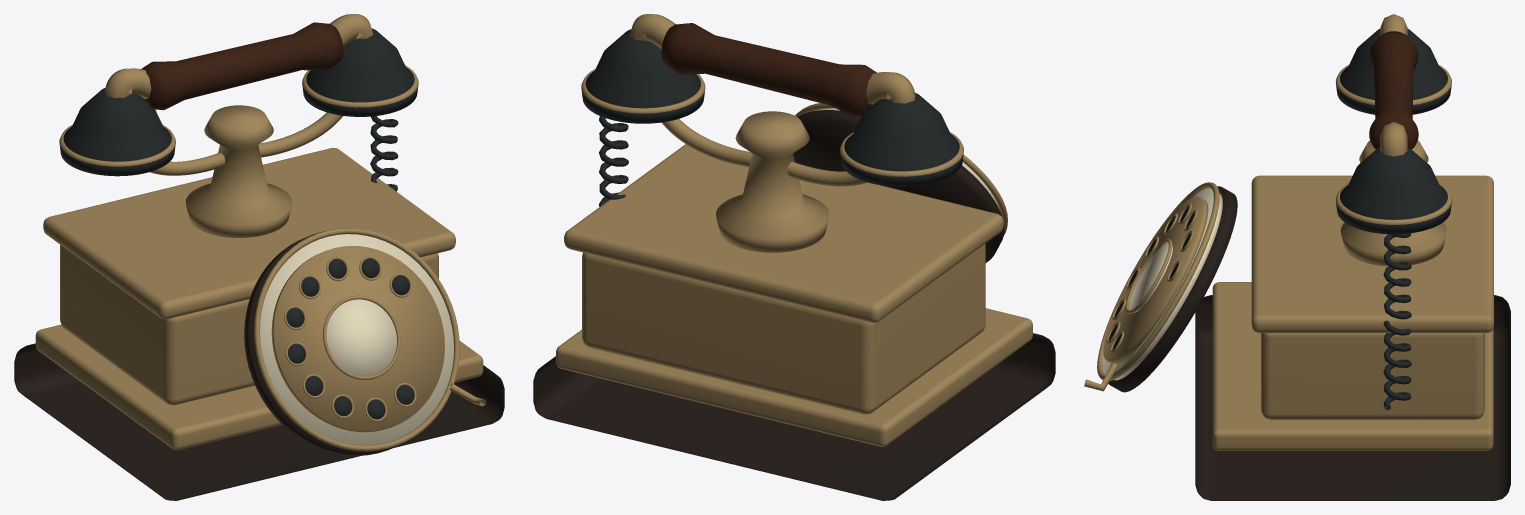
The model's file is Telephone.fbx.
The picture shows the model from 3 angles, left to right: view 1: azimuth 30°, elevation 25°; view 2: azimuth 150°, elevation 25°; view 3: azimuth 270°, elevation 25°; orthographic projection. The views are drawn at different scales.
Parts seen in each view (by area): view 1: Case shoulder.001, Ebonised telephone foot.001, Rotating dial plate.001, Telephone enclosed case.001, Brass lower step.001, Central receiver pedestal.001, Receiver wood grip.001, Ivory numeral ring.001, Receiver bell housing.002, Receiver bell housing.003, Dial centre label.001, Dial outer brass lip.001 (+9 smaller); view 2: Telephone enclosed case.001, Case shoulder.001, Ebonised telephone foot.001, Brass lower step.001, Central receiver pedestal.001, Receiver wood grip.001, Receiver bell housing.002, Receiver bell housing.003, Dial backing.001, Curved cradle fork.003, Braided receiver cable.001, Receiver neck.002 (+5 smaller); view 3: Case shoulder.001, Ebonised telephone foot.001, Telephone enclosed case.001, Brass lower step.001, Receiver bell housing.003, Rotating dial plate.001, Receiver wood grip.001, Receiver bell housing.002, Dial backing.001, Central receiver pedestal.001, Braided receiver cable.001, Dial outer brass lip.001 (+6 smaller).
Boxes of the visible parts, x1,y1,x2,y2 form: Case shoulder.001: (43,148,455,319); Ebonised telephone foot.001: (14,343,504,500); Rotating dial plate.001: (271,246,444,432); Telephone enclosed case.001: (60,245,438,405); Brass lower step.001: (35,324,483,450); Central receiver pedestal.001: (185,105,292,237); Receiver wood grip.001: (141,22,343,110); Ivory numeral ring.001: (260,234,453,445); Receiver bell housing.002: (59,88,175,176); Receiver bell housing.003: (302,28,418,116); Dial centre label.001: (326,299,396,376); Dial outer brass lip.001: (254,228,459,451); Telephone enclosed case.001: (582,243,985,414); Case shoulder.001: (564,144,1003,322); Ebonised telephone foot.001: (533,333,1055,500); Brass lower step.001: (556,308,1032,446); Central receiver pedestal.001: (716,111,829,252); Receiver wood grip.001: (661,23,876,116); Receiver bell housing.002: (840,92,963,186); Receiver bell housing.003: (581,29,704,123); Dial backing.001: (793,110,1004,262); Curved cradle fork.003: (662,119,752,166); Braided receiver cable.001: (599,116,628,206); Receiver neck.002: (866,72,915,104); Case shoulder.001: (1251,175,1493,332); Ebonised telephone foot.001: (1195,295,1510,500); Telephone enclosed case.001: (1261,333,1484,419); Brass lower step.001: (1212,282,1493,450); Receiver bell housing.003: (1336,147,1451,234); Rotating dial plate.001: (1103,196,1208,363); Receiver wood grip.001: (1369,31,1418,149); Receiver bell housing.002: (1336,29,1451,114); Dial backing.001: (1108,186,1237,392); Central receiver pedestal.001: (1340,140,1446,266); Braided receiver cable.001: (1383,233,1411,410); Dial outer brass lip.001: (1097,182,1219,380).
Bounding box in the file's own units: 0.32 × 0.3137 × 0.3448.
